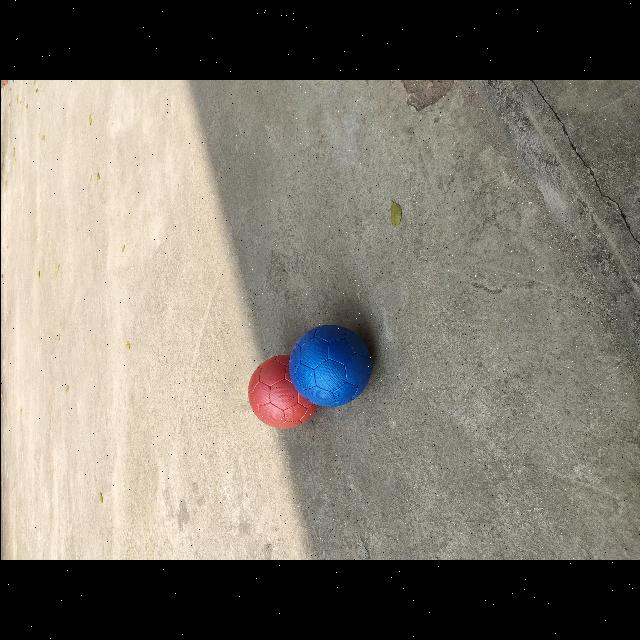B: (289, 325, 372, 406)
